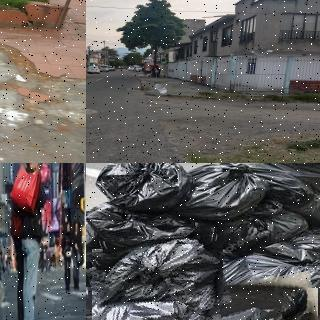Garbage: (87, 232, 227, 320), (115, 279, 320, 320), (209, 252, 320, 320), (182, 163, 267, 220), (98, 163, 190, 211), (221, 163, 320, 195), (289, 232, 320, 291), (86, 281, 127, 320), (86, 201, 102, 289), (154, 82, 167, 95)
